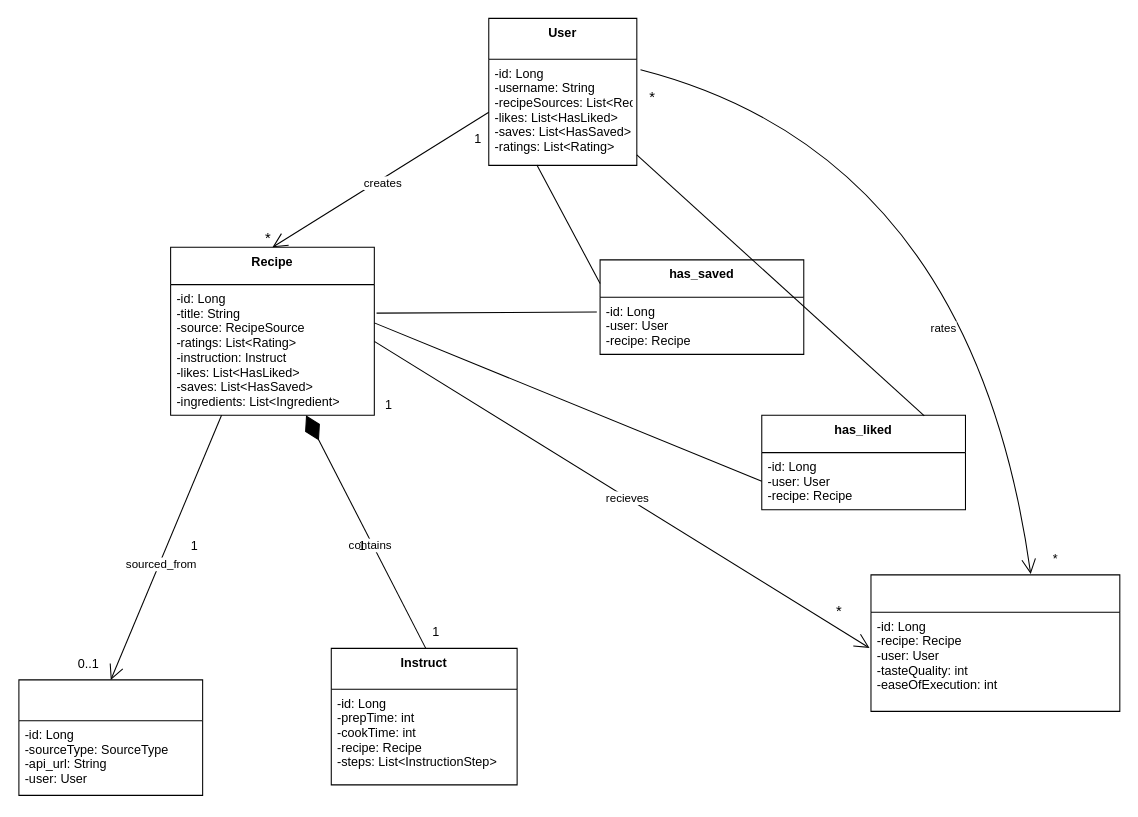
The diagram is 1138 pixels wide and 817 high, and some of its shapes have lost their labels. The box of each missing label's shape, as (x1, y1, x2, y2) in pixels:
Rating: (870, 574, 1120, 711)
RecipeSource: (18, 679, 203, 795)
